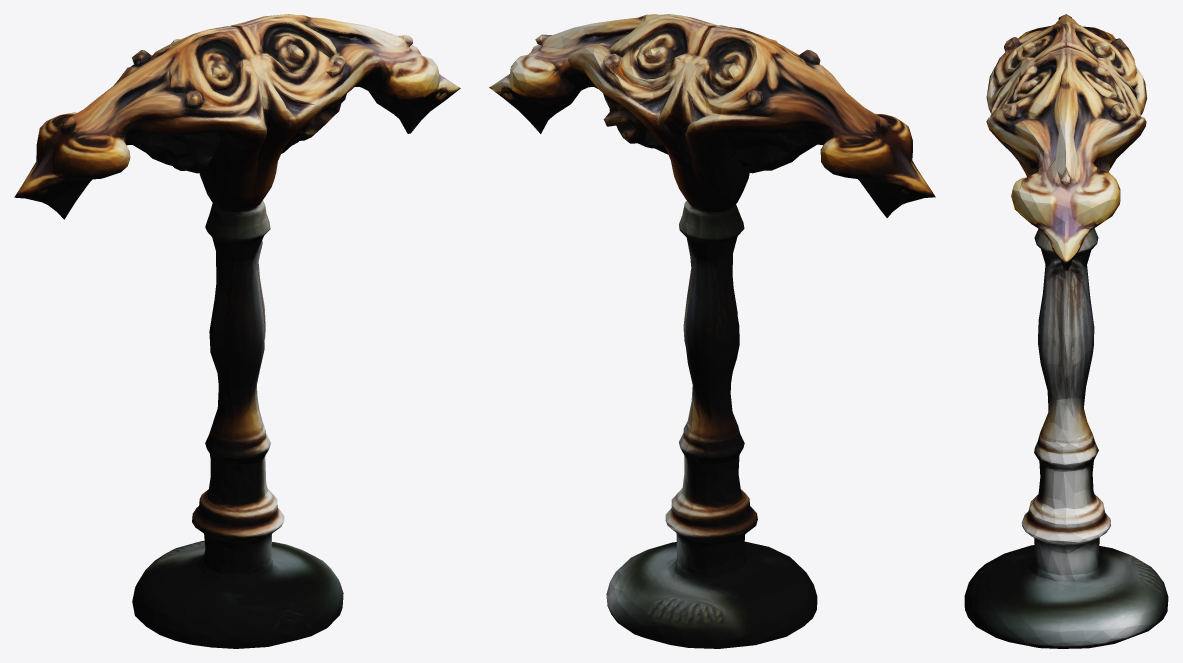
Rendered from hand-carved-horn-door-handle-rustic.jpeg.glb.
The picture shows the model from 3 angles, left to right: view 1: azimuth 30°, elevation 25°; view 2: azimuth 150°, elevation 25°; view 3: azimuth 270°, elevation 25°; orthographic projection. The views are drawn at different scales.
Visible parts, largest first — view 1: world; view 2: world; view 3: world.
Part boxes in pixels (x1,y1,x2,y2): world: (14,14,460,648); world: (489,14,935,648); world: (964,14,1168,648).
Bounding box in the file's own units: 0.8035 × 0.9993 × 0.3272.
1 material, 1 textured.
